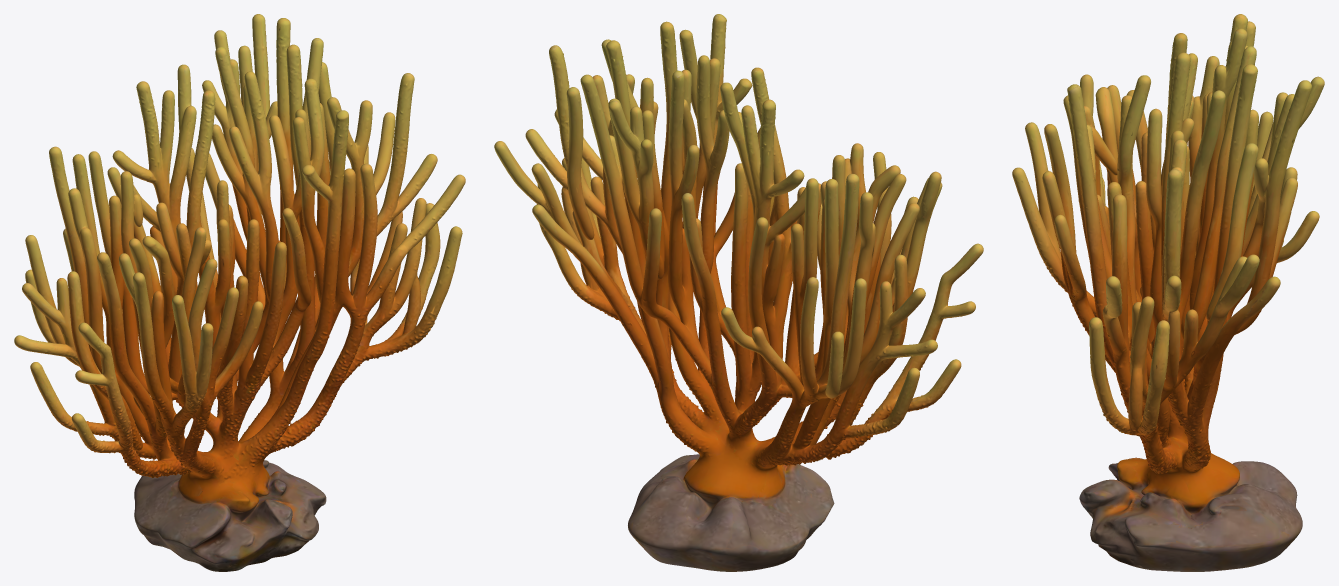
Rendered from yellow-orange-coral.glb.
The picture shows the model from 3 angles, left to right: view 1: azimuth 30°, elevation 25°; view 2: azimuth 150°, elevation 25°; view 3: azimuth 270°, elevation 25°; orthographic projection. The views are drawn at different scales.
Parts seen in each view (by area): view 1: material; view 2: material; view 3: material.
Part boxes in pixels (<box>): material: <box>14,14,465,571</box>; material: <box>494,14,983,571</box>; material: <box>1012,14,1324,571</box>.
Bounding box in the file's own units: 0.9591 × 1.07 × 0.5823.
1 material, 1 textured.
